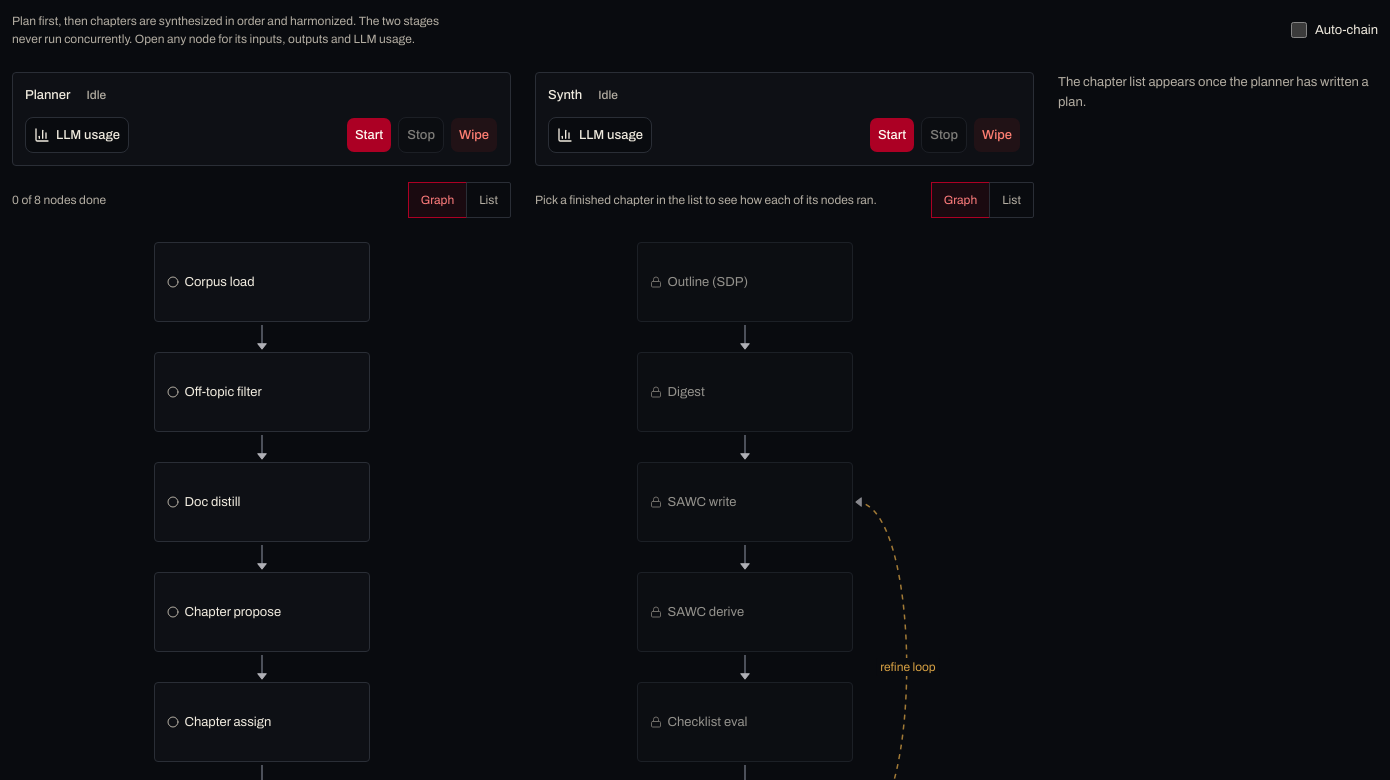
Scenario: Pipeline stage › leaves synth alone when Auto-chain is off
Click the button with test id "planner-start" at (369, 135), box [346,117,392,153]
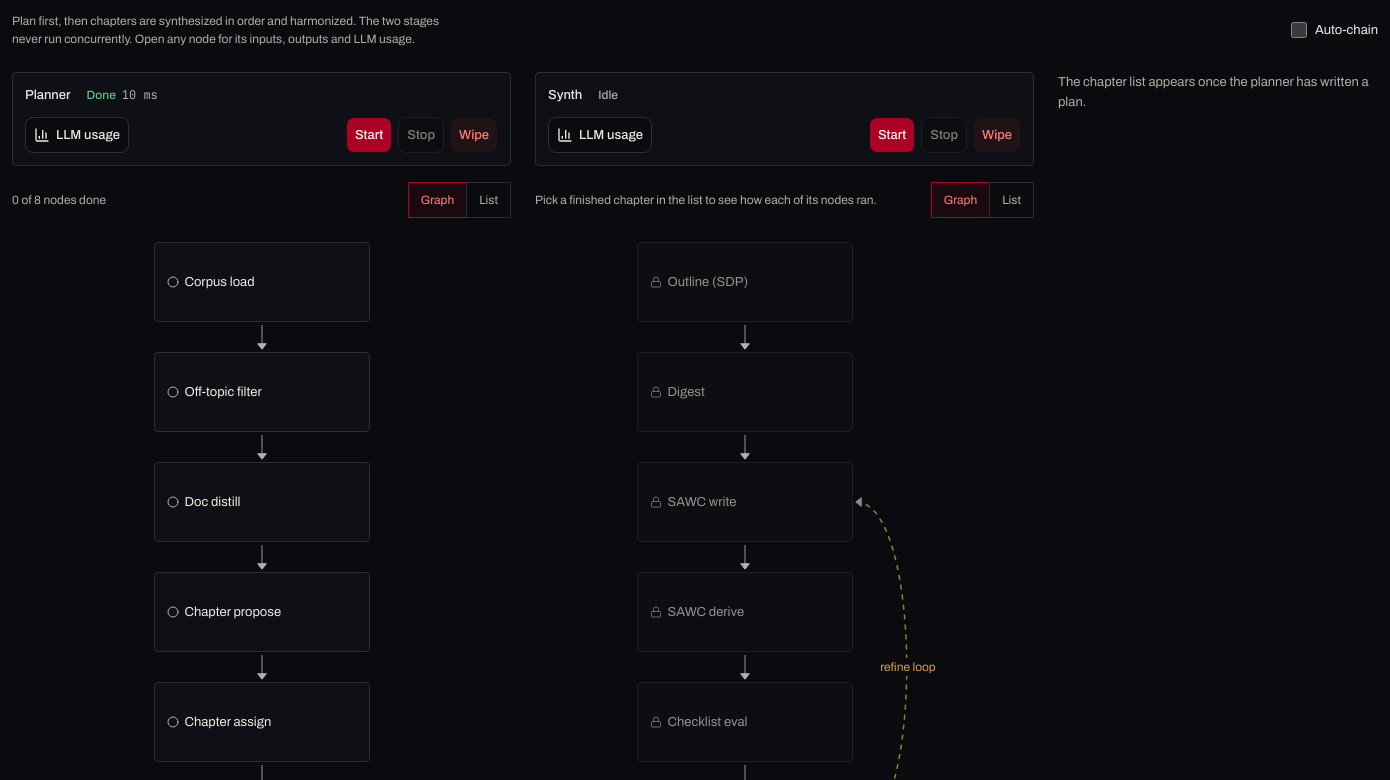
Check: the message "Done 10 ms" is shown, box [86,86,158,104]
